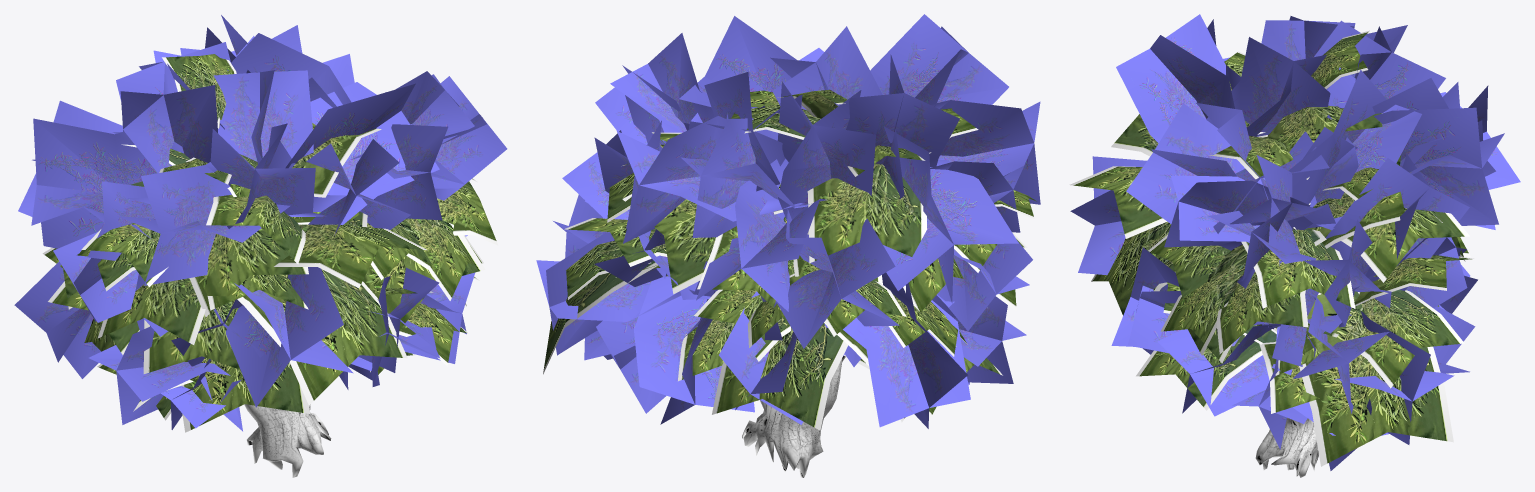
The model's file is OliveTree00.fbx.
The picture shows the model from 3 angles, left to right: view 1: azimuth 30°, elevation 25°; view 2: azimuth 150°, elevation 25°; view 3: azimuth 270°, elevation 25°; orthographic projection. The views are drawn at different scales.
Parts seen in each view (by area): view 1: LeavesPlaneB036, LeavesPlaneB029, LeavesPlaneB031, LeavesPlaneB032, LeavesPlaneB033, LeavesPlaneB037, LeavesPlane057, LeavesPlaneB030, LeavesPlane049, LeavesPlaneB015, LeavesPlaneB027, LeavesPlane037 (+32 smaller); view 2: LeavesPlaneB036, LeavesPlaneB039, LeavesPlaneB012, LeavesPlaneB042, LeavesPlaneB041, LeavesPlaneB040, LeavesPlane038, LeavesPlaneB030, LeavesPlaneB043, LeavesPlane054, LeavesPlaneB031, LeavesPlaneB037 (+35 smaller); view 3: LeavesPlane058, LeavesPlaneB030, LeavesPlaneB042, LeavesPlaneB013, LeavesPlaneB017, LeavesPlaneB033, LeavesPlaneB015, LeavesPlaneB005, LeavesPlane005, LeavesPlaneB023, LeavesPlane011, LeavesPlaneB029 (+35 smaller).
Boxes of the visible parts, box(x1,y1,x2,y2) form: LeavesPlaneB036: box(31, 118, 183, 248); LeavesPlaneB029: box(226, 267, 353, 407); LeavesPlaneB031: box(117, 162, 290, 285); LeavesPlaneB032: box(285, 82, 439, 224); LeavesPlaneB033: box(213, 70, 313, 163); LeavesPlaneB037: box(120, 63, 217, 172); LeavesPlane057: box(237, 269, 407, 405); LeavesPlaneB030: box(210, 123, 326, 228); LeavesPlane049: box(274, 224, 427, 288); LeavesPlaneB015: box(350, 124, 464, 220); LeavesPlaneB027: box(89, 326, 230, 424); LeavesPlane037: box(189, 228, 308, 317); LeavesPlaneB036: box(883, 126, 1018, 303); LeavesPlaneB039: box(843, 272, 970, 428); LeavesPlaneB012: box(634, 276, 754, 424); LeavesPlaneB042: box(617, 116, 804, 243); LeavesPlaneB041: box(773, 209, 899, 348); LeavesPlaneB040: box(777, 81, 875, 237); LeavesPlane038: box(807, 163, 927, 263); LeavesPlaneB030: box(870, 14, 1008, 106); LeavesPlaneB043: box(696, 158, 826, 311); LeavesPlane054: box(712, 323, 848, 430); LeavesPlaneB031: box(930, 100, 1040, 204); LeavesPlaneB037: box(846, 54, 959, 199); LeavesPlane058: box(1299, 289, 1453, 466); LeavesPlaneB030: box(1116, 14, 1234, 143); LeavesPlaneB042: box(1374, 107, 1504, 225); LeavesPlaneB013: box(1257, 67, 1421, 230); LeavesPlaneB017: box(1126, 103, 1244, 223); LeavesPlaneB033: box(1206, 37, 1330, 136); LeavesPlaneB015: box(1164, 175, 1310, 250); LeavesPlaneB005: box(1326, 154, 1469, 291); LeavesPlane005: box(1357, 290, 1464, 388); LeavesPlaneB023: box(1157, 323, 1280, 416); LeavesPlane011: box(1241, 229, 1355, 308); LeavesPlaneB029: box(1070, 156, 1146, 275).
Bounding box in the file's own units: 1202 × 1094 × 1066.
